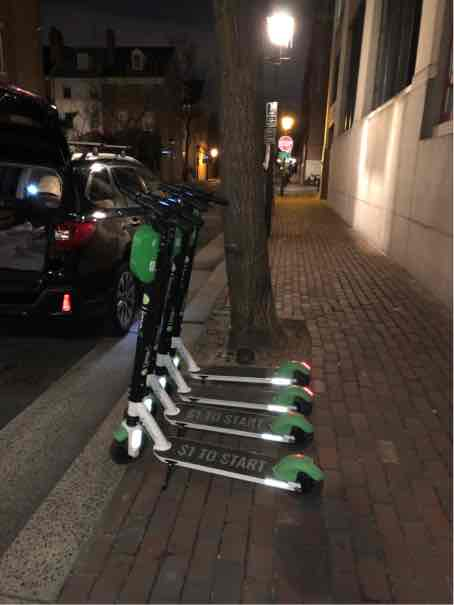too close: (79, 414, 161, 479)
